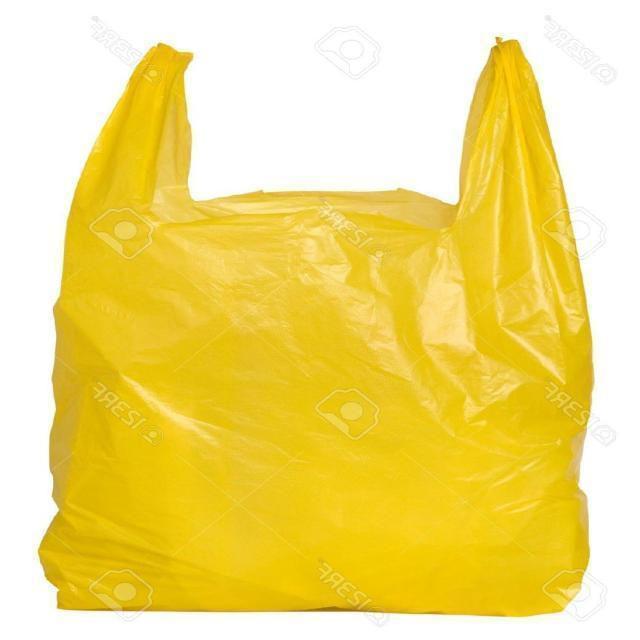Plastic_Bag: (37, 42, 590, 624)
